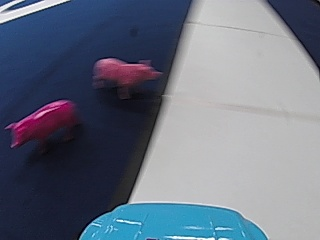pig: (5, 95, 80, 148), (91, 53, 159, 98)
